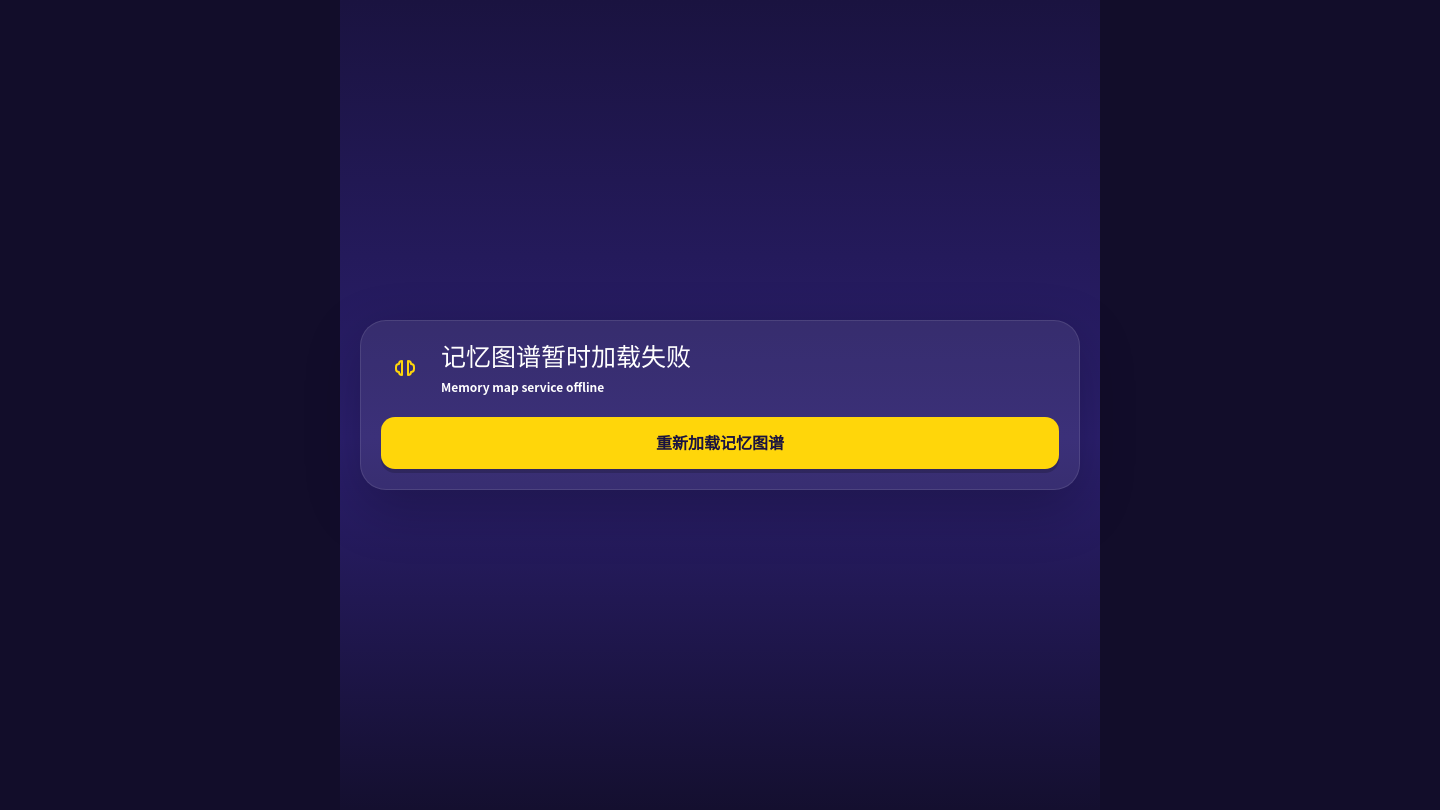
Test: MemoryMapScreen › shows an API failure state and retries loading the map
Expected: the heading "记忆图谱暂时加载失败" is shown, left=441, top=341, right=691, bottom=373
Expected: the text "Memory map service offline" is shown, left=441, top=378, right=604, bottom=395
Click the button "重新加载记忆图谱". click: (720, 443)
box: left=381, top=417, right=1059, bottom=469
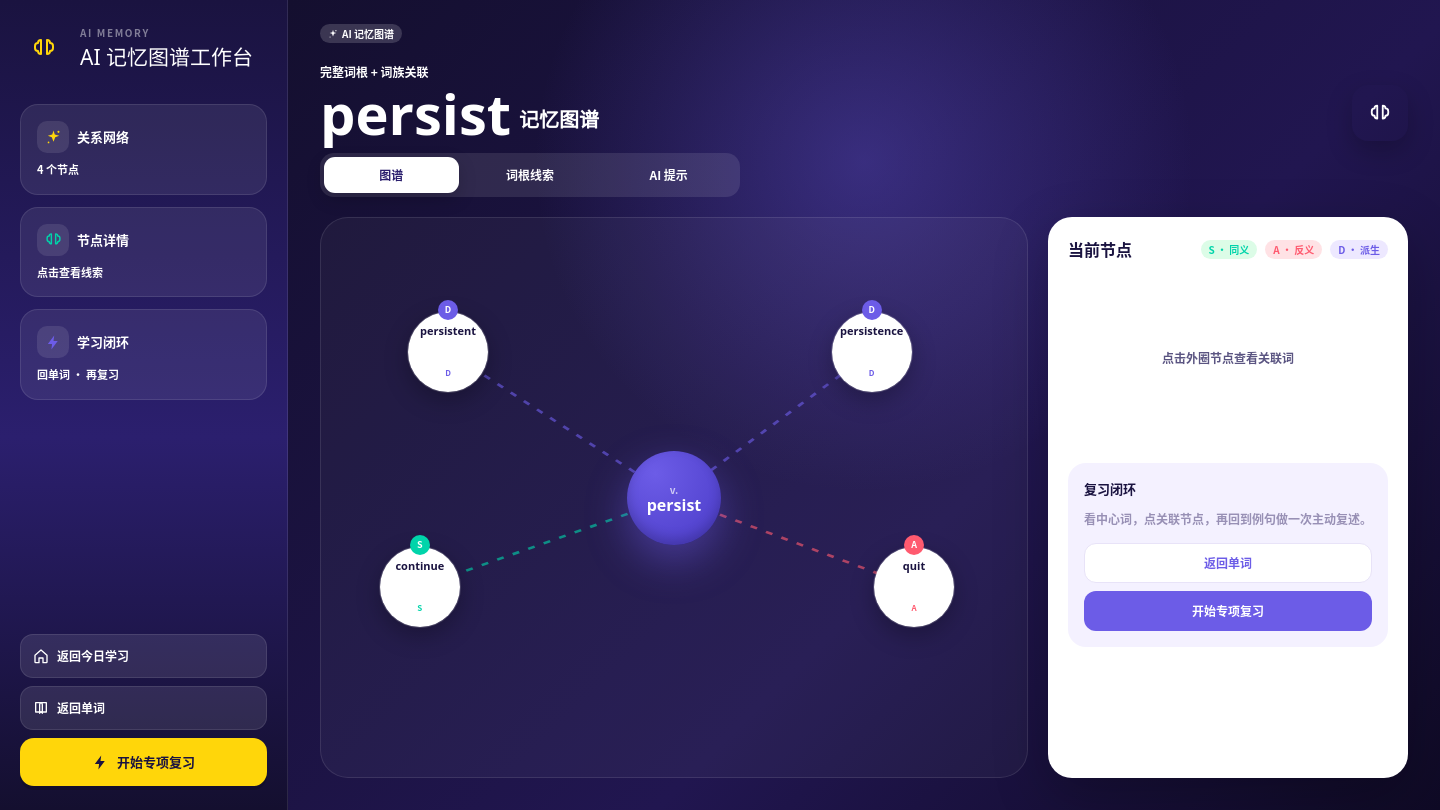
Result: the heading named "persist 记忆图谱" is shown at left=320, top=85, right=599, bottom=141
